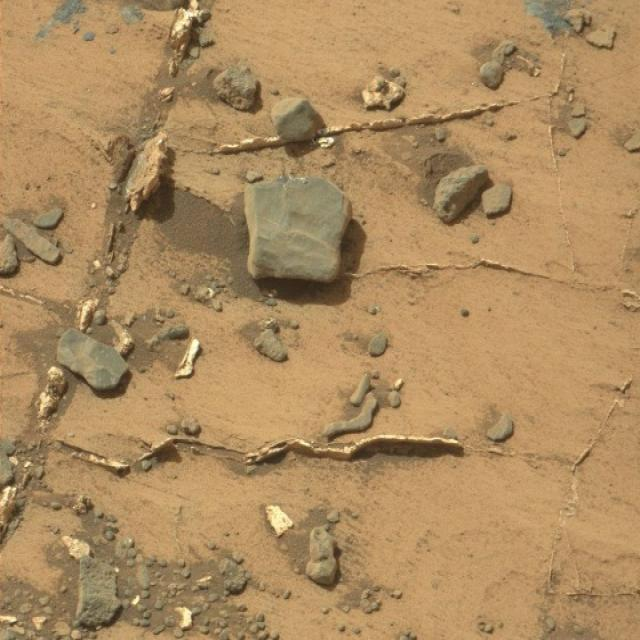mars-rocks: (244, 176, 352, 282), (56, 329, 128, 392), (73, 558, 121, 630), (434, 166, 489, 223), (272, 97, 326, 142)
